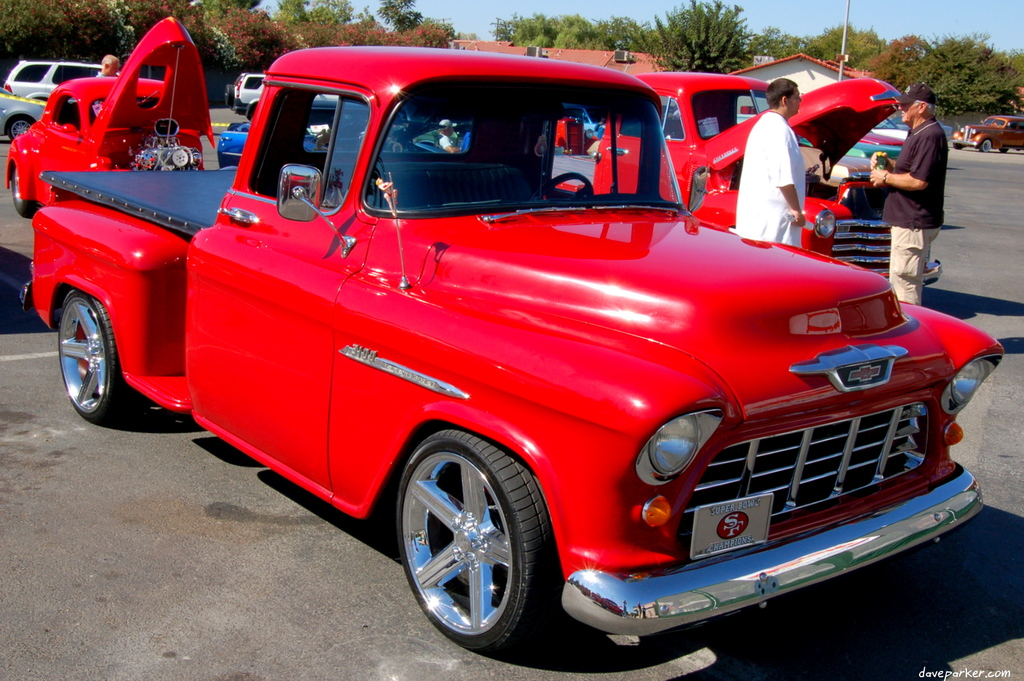Person: (869, 82, 948, 306), (734, 77, 805, 247), (91, 54, 120, 104), (437, 119, 462, 155)
